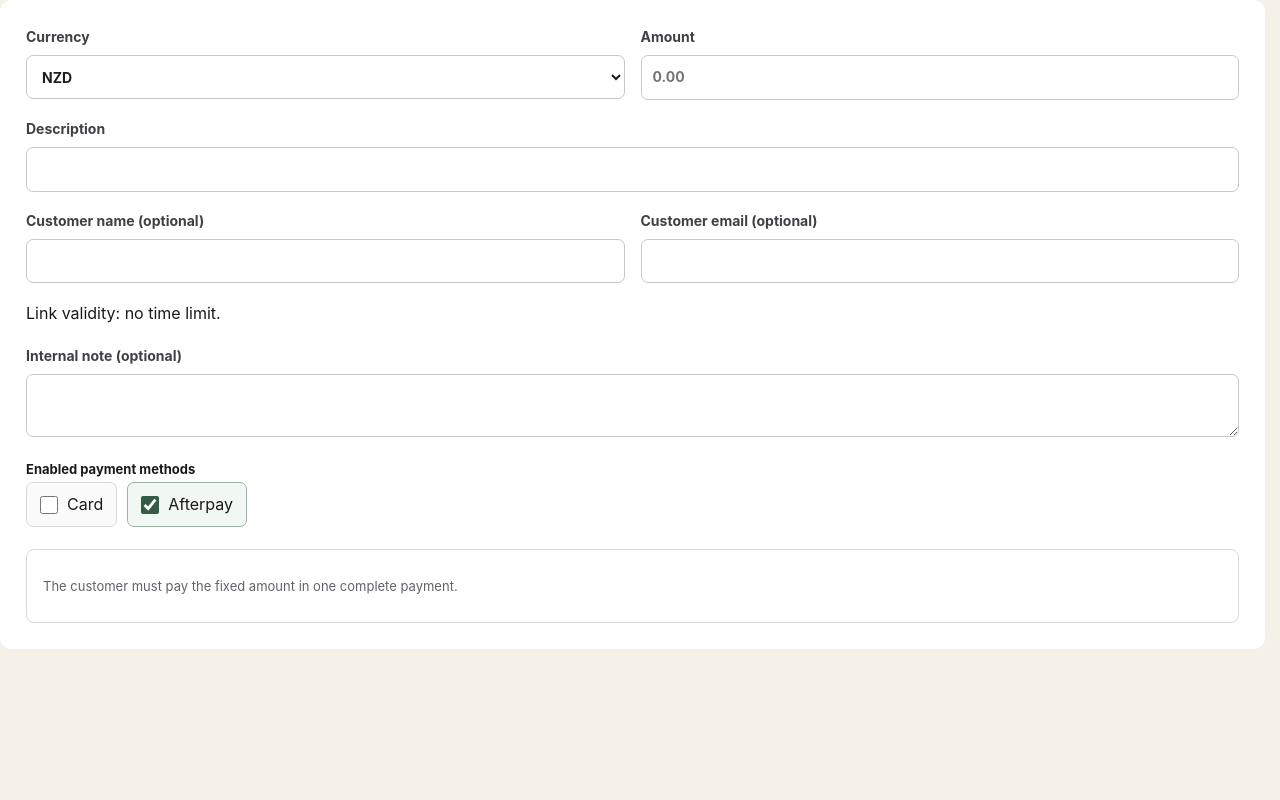
Test: Admin PaymentRequestForm › starts empty with a zero hint and pads typed amounts to two decimals on blur
Type "200" into the field labelled "Amount" at (940, 78), box [640,55,1239,100]
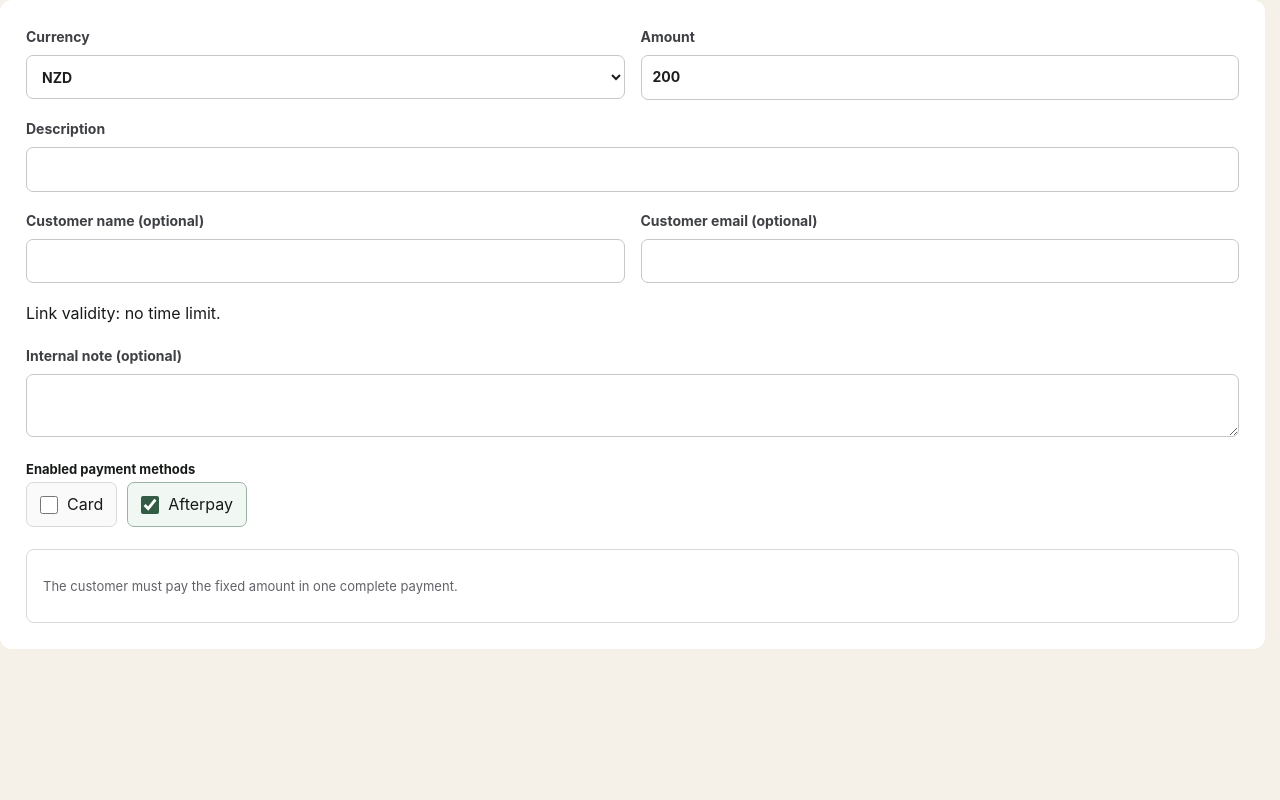
Leave the field labelled "Amount", box [640,55,1239,100]
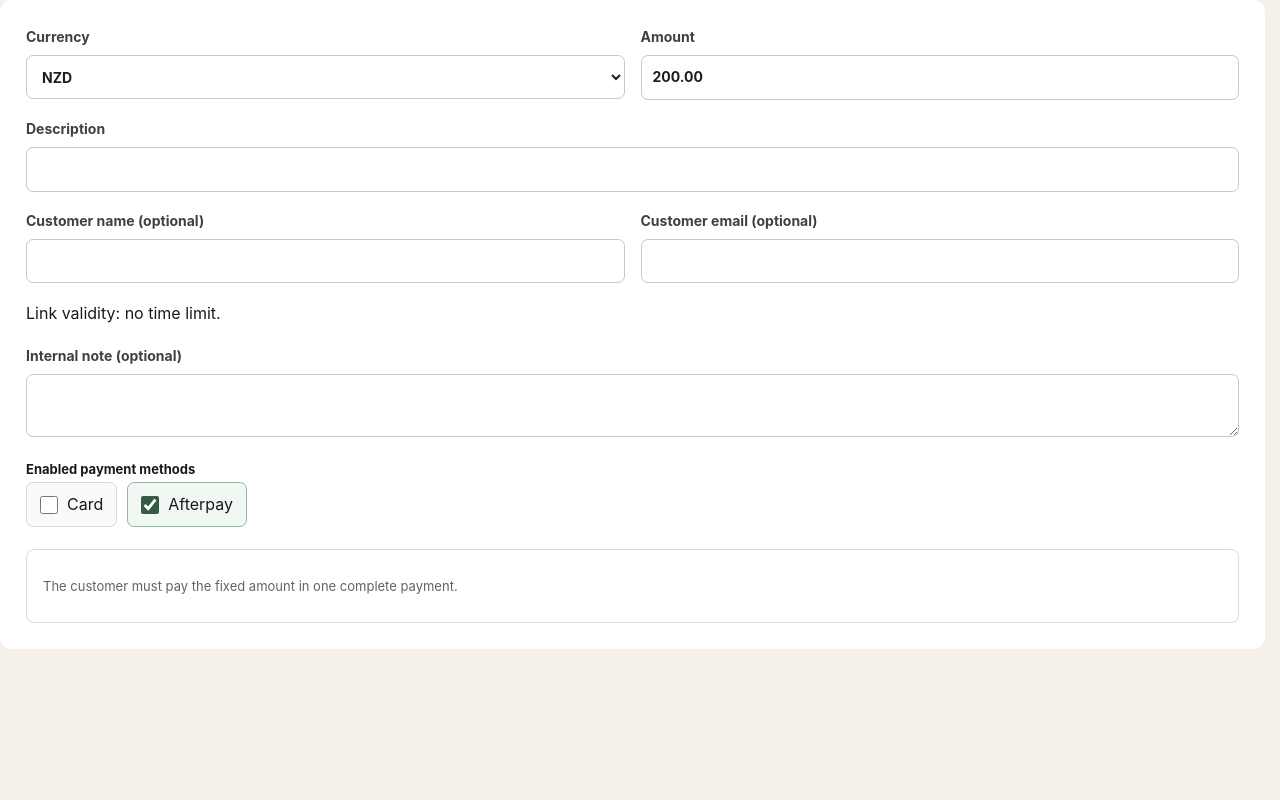
Expected: the field labelled "Amount" holds "200.00"
Replace the text in the field labelled "Amount" with "200.5" at (940, 78), box [640,55,1239,100]
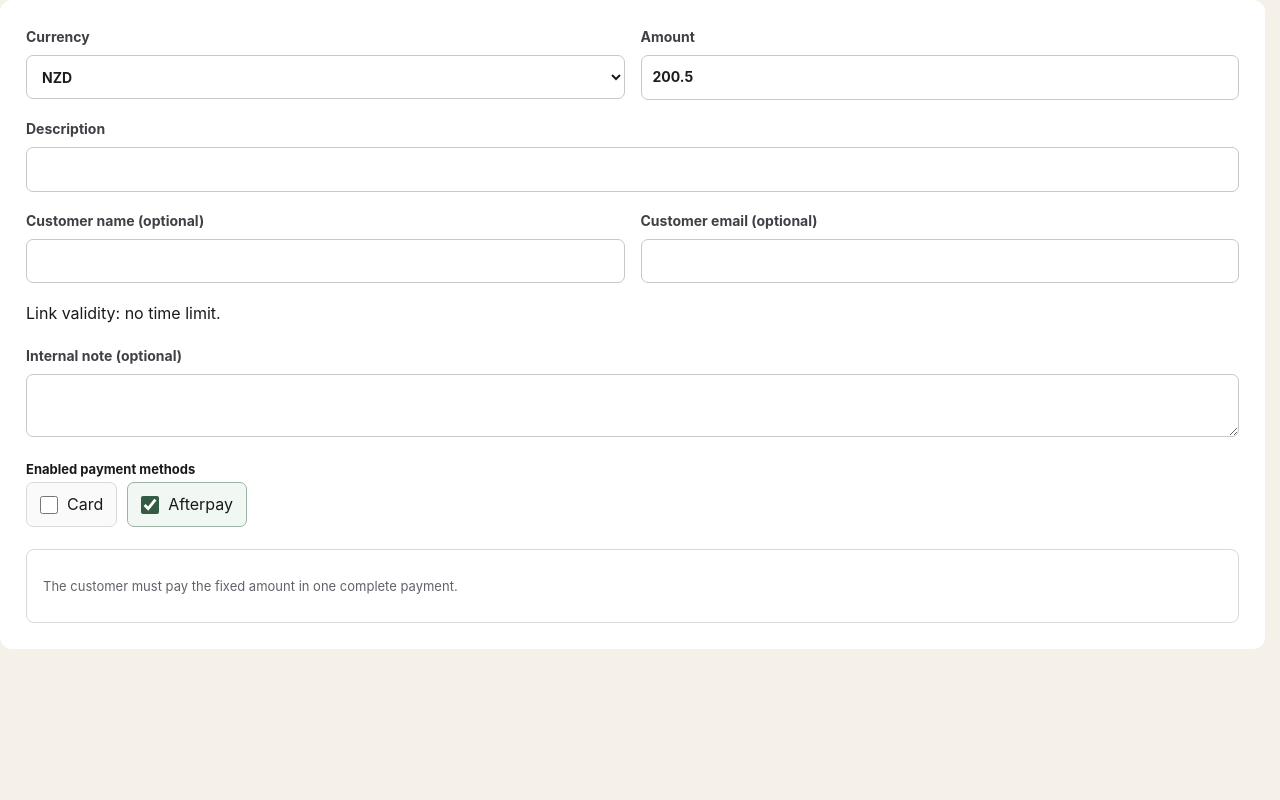
Leave the field labelled "Amount", box [640,55,1239,100]
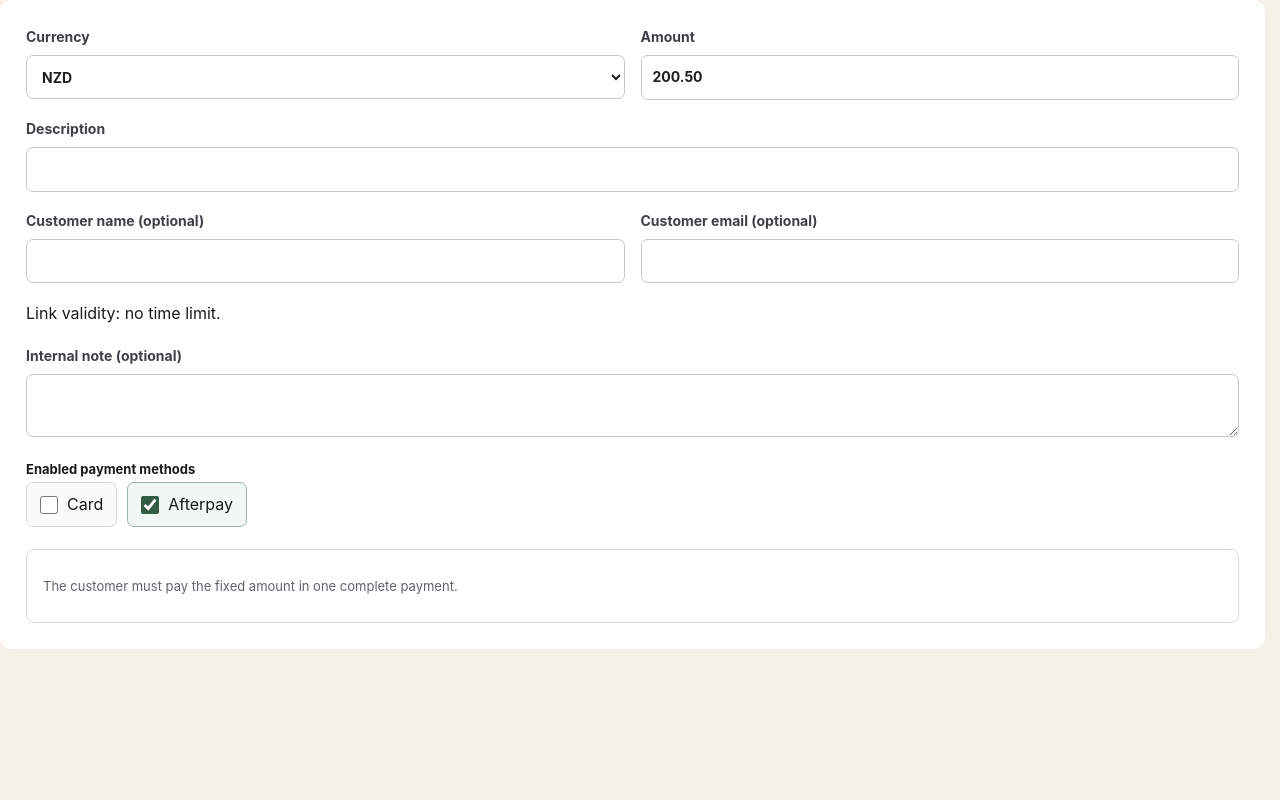
Expected: the field labelled "Amount" holds "200.50", [640,55,1239,100]
